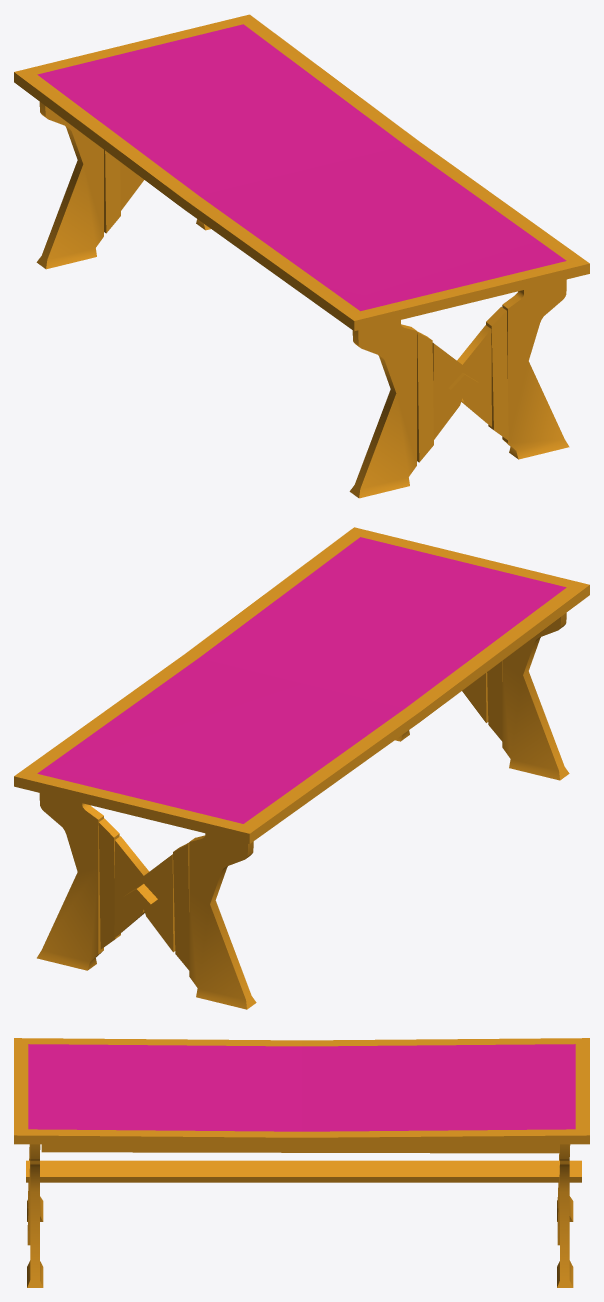
Rendered from TABLE 4.glb.
The picture shows the model from 3 angles, top to bottom: view 1: azimuth 30°, elevation 25°; view 2: azimuth 150°, elevation 25°; view 3: azimuth 270°, elevation 25°; orthographic projection. The views are drawn at different scales.
Parts seen in each view (by area): view 1: Prop_Table_B; view 2: Prop_Table_B; view 3: Prop_Table_B.
Part boxes in pixels (box(x1,y1,x2,y2)): Prop_Table_B: box(14, 14, 589, 498); Prop_Table_B: box(14, 527, 589, 1009); Prop_Table_B: box(14, 1038, 589, 1287).
Size of the model in its own units: 1.2 by 0.9058 by 3.
